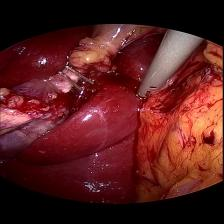Irrigator: (132, 67, 176, 98)
